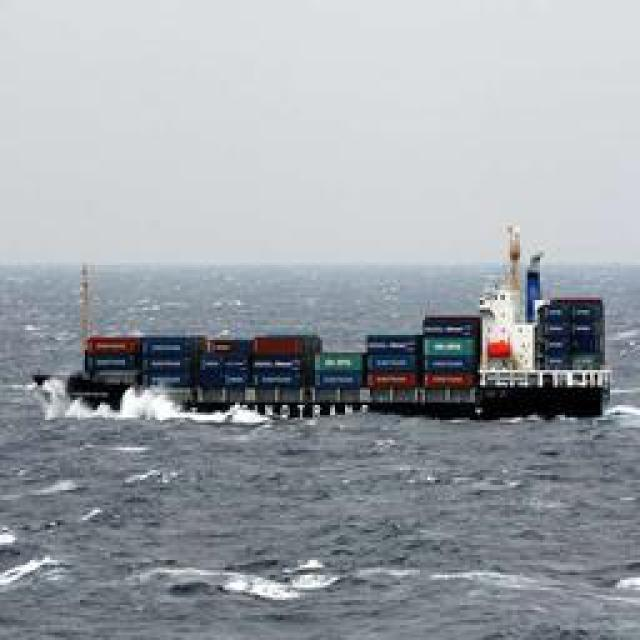Ship: (29, 215, 622, 431)
